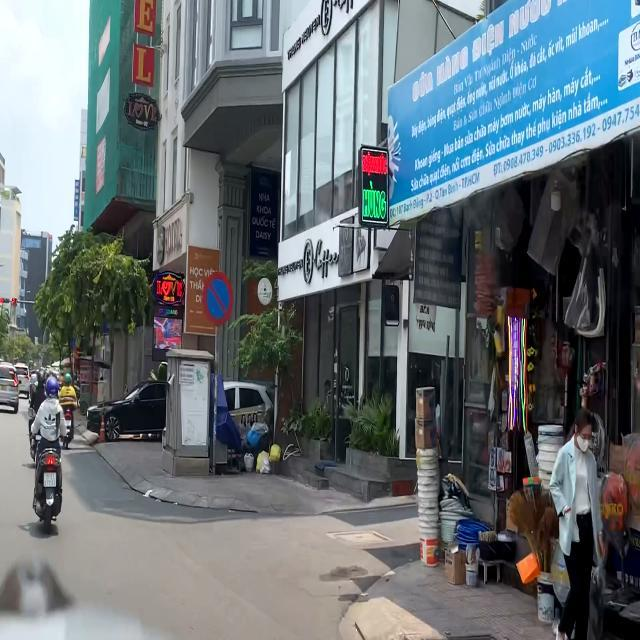P-131a: (201, 270, 235, 326)
